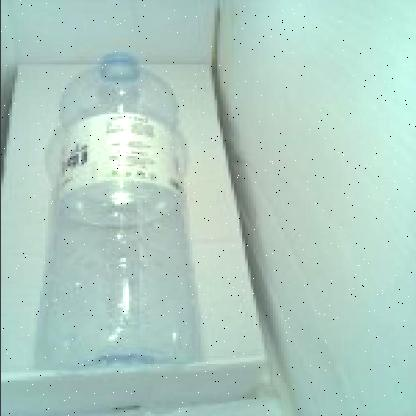Plastic Bottle: (36, 50, 198, 370)
